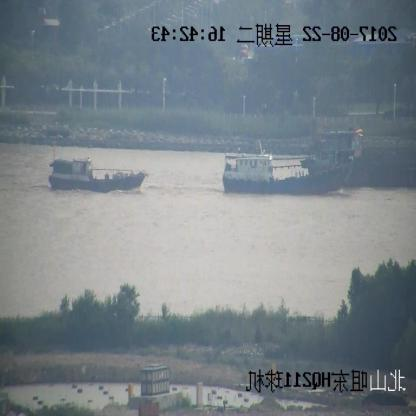Fishing Boat: (222, 143, 352, 197), (48, 156, 146, 191)
